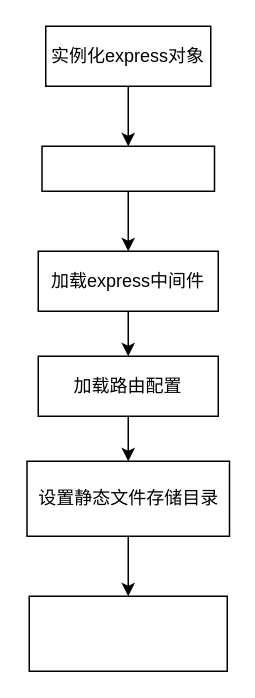
The diagram is 255 pixels wide and 698 high, and some of its shapes have lost their labels. The centre of each missing label's shape, as x and y in pixels:
声明常量: (x=127, y=168)
监听端口开启web服务: (x=127, y=633)
